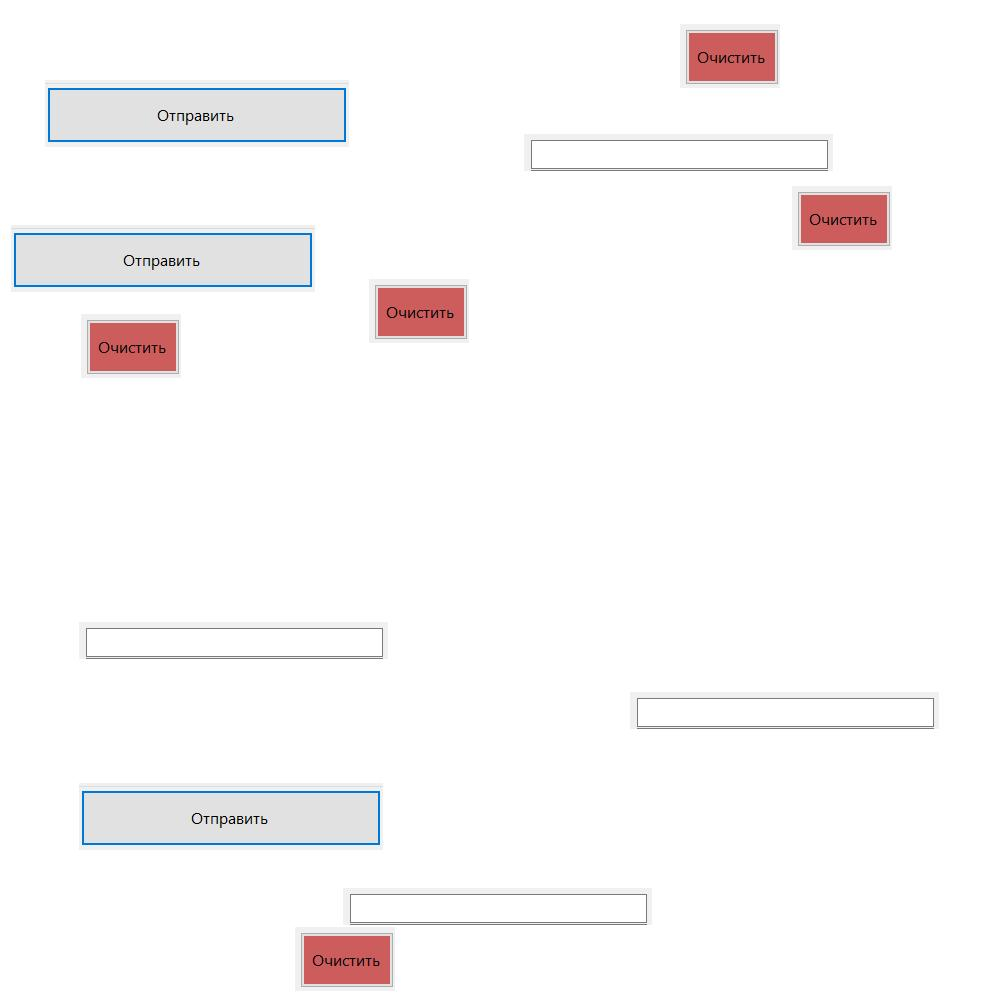Button: (45, 80, 349, 147), (79, 783, 383, 850), (11, 225, 315, 292), (680, 24, 780, 88), (369, 279, 469, 343), (81, 314, 181, 378), (295, 927, 395, 991), (792, 186, 892, 250)
EditText-: (79, 622, 388, 659), (524, 134, 833, 171), (630, 692, 939, 729), (343, 888, 652, 925)
